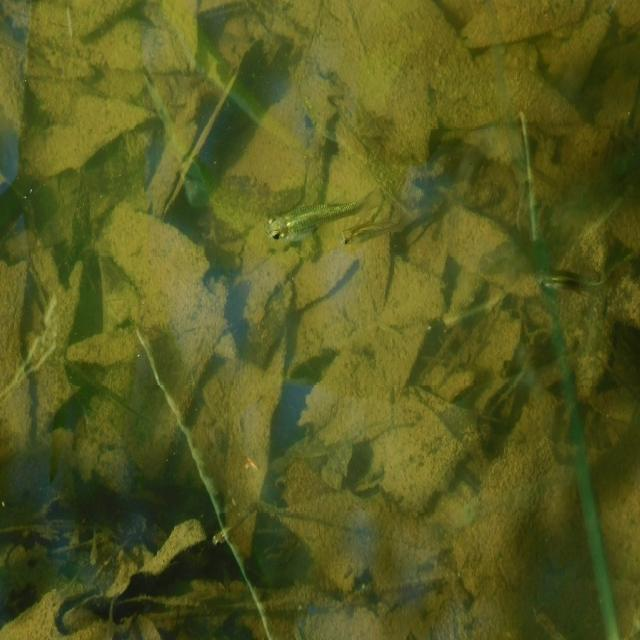Sivrisinek Baligi: (265, 184, 375, 245), (344, 200, 425, 250), (526, 259, 606, 297)
